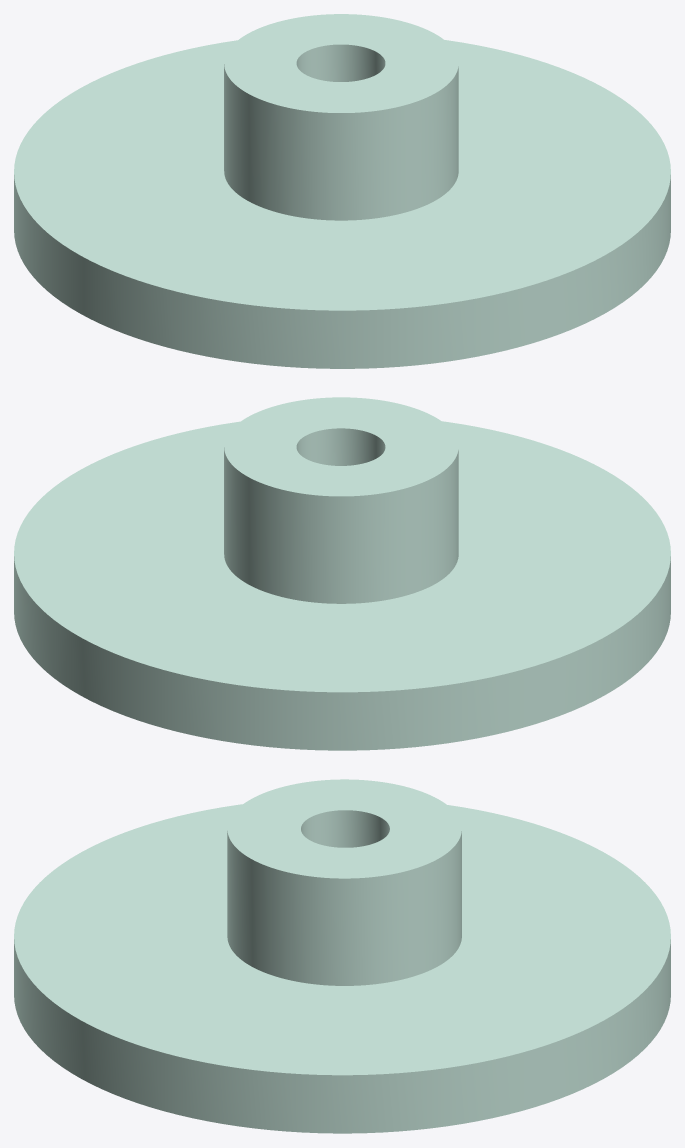
3 views of the same model, one above another, from view 1: azimuth 30°, elevation 25°; view 2: azimuth 150°, elevation 25°; view 3: azimuth 270°, elevation 25° (orthographic).
Parts seen in each view (by area): view 1: Renderer Node; view 2: Renderer Node; view 3: Renderer Node.
Part boxes in pixels (x1,y1,x2,y2): Renderer Node: (14,14,670,368); Renderer Node: (14,397,670,750); Renderer Node: (14,779,670,1133).
Bounding box in the file's own units: 1.52 × 0.4219 × 1.52.
